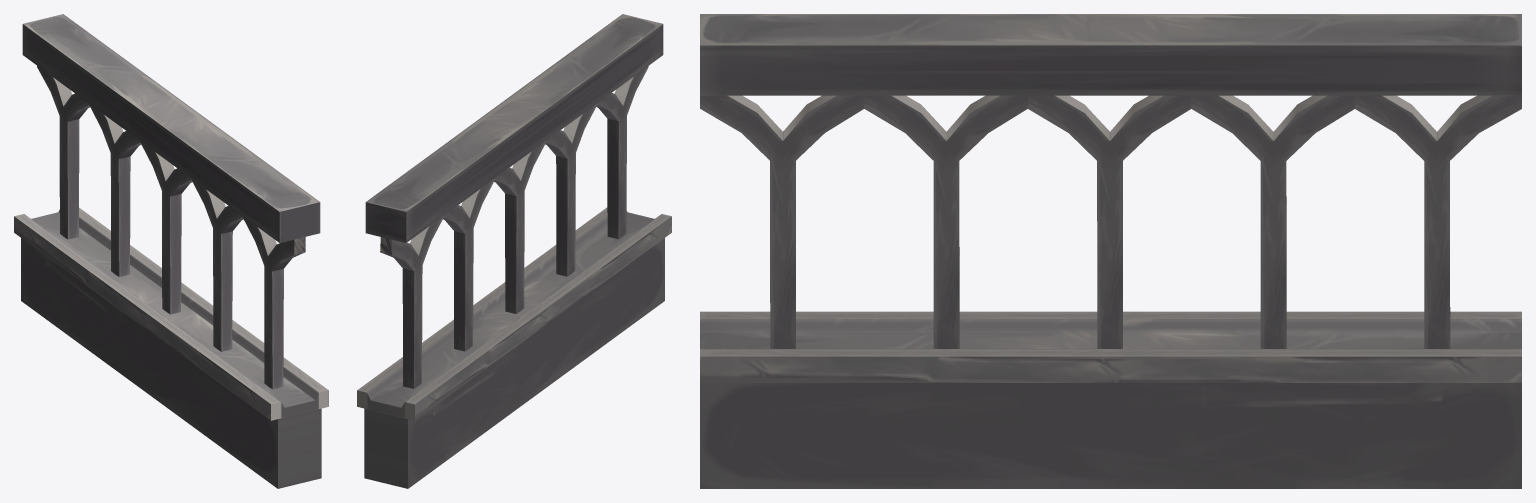
Rendered from langan04.fbx.
The picture shows the model from 3 angles, left to right: view 1: azimuth 30°, elevation 25°; view 2: azimuth 150°, elevation 25°; view 3: azimuth 270°, elevation 25°; orthographic projection. The views are drawn at different scales.
Parts seen in each view (by area): view 1: langan; view 2: langan; view 3: langan.
Boxes of the visible parts, x1,y1,x2,y2 form: langan: (14, 14, 328, 488); langan: (357, 14, 671, 488); langan: (700, 14, 1521, 488).
Size of the model in its own units: 7.75 by 35.48 by 59.77.
1 material, 1 textured.
